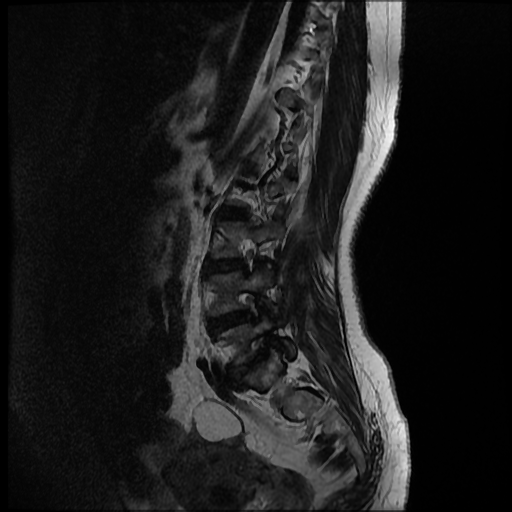LFS2: (230, 282, 270, 327)
